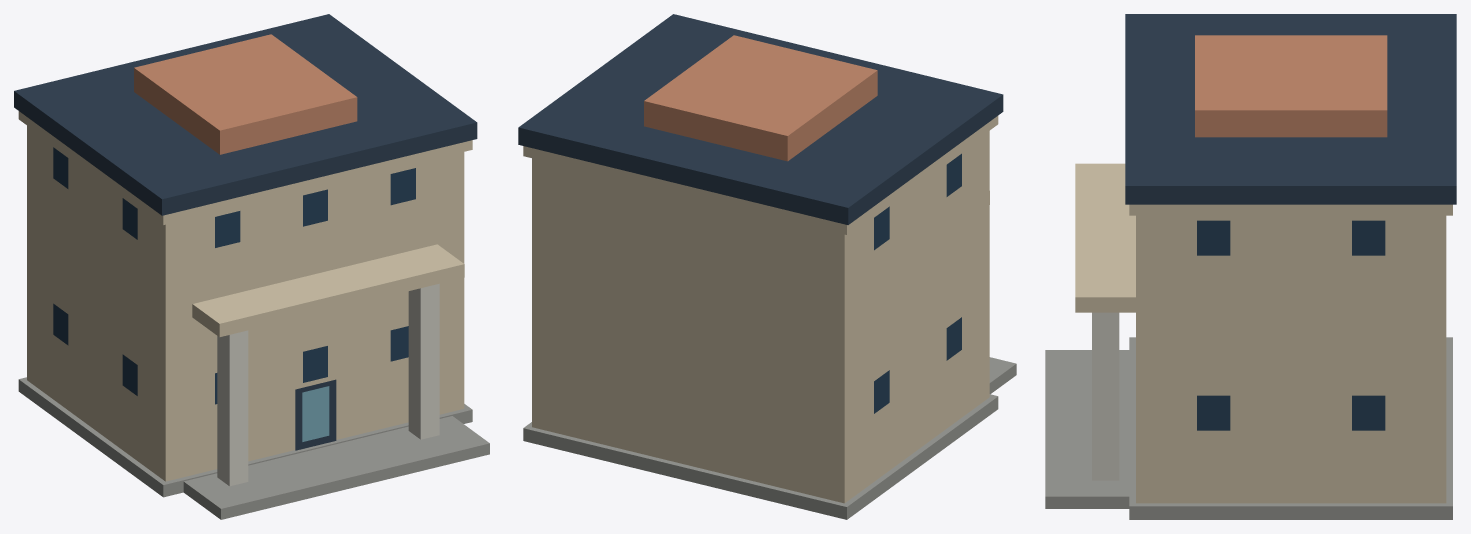
Rendered from civic-cream.glb.
3 views of the same model, side by side, from view 1: azimuth 30°, elevation 25°; view 2: azimuth 150°, elevation 25°; view 3: azimuth 270°, elevation 25° (orthographic). The views are drawn at different scales.
Parts seen in each view (by area): view 1: asset_root; view 2: asset_root; view 3: asset_root.
Part boxes in pixels (x1=…): asset_root: x1=14, y1=14, x2=489, y2=519; asset_root: x1=518, y1=14, x2=1016, y2=519; asset_root: x1=1045, y1=14, x2=1456, y2=519.
Size of the model in its own units: 5.38 by 5.29 by 5.44.
